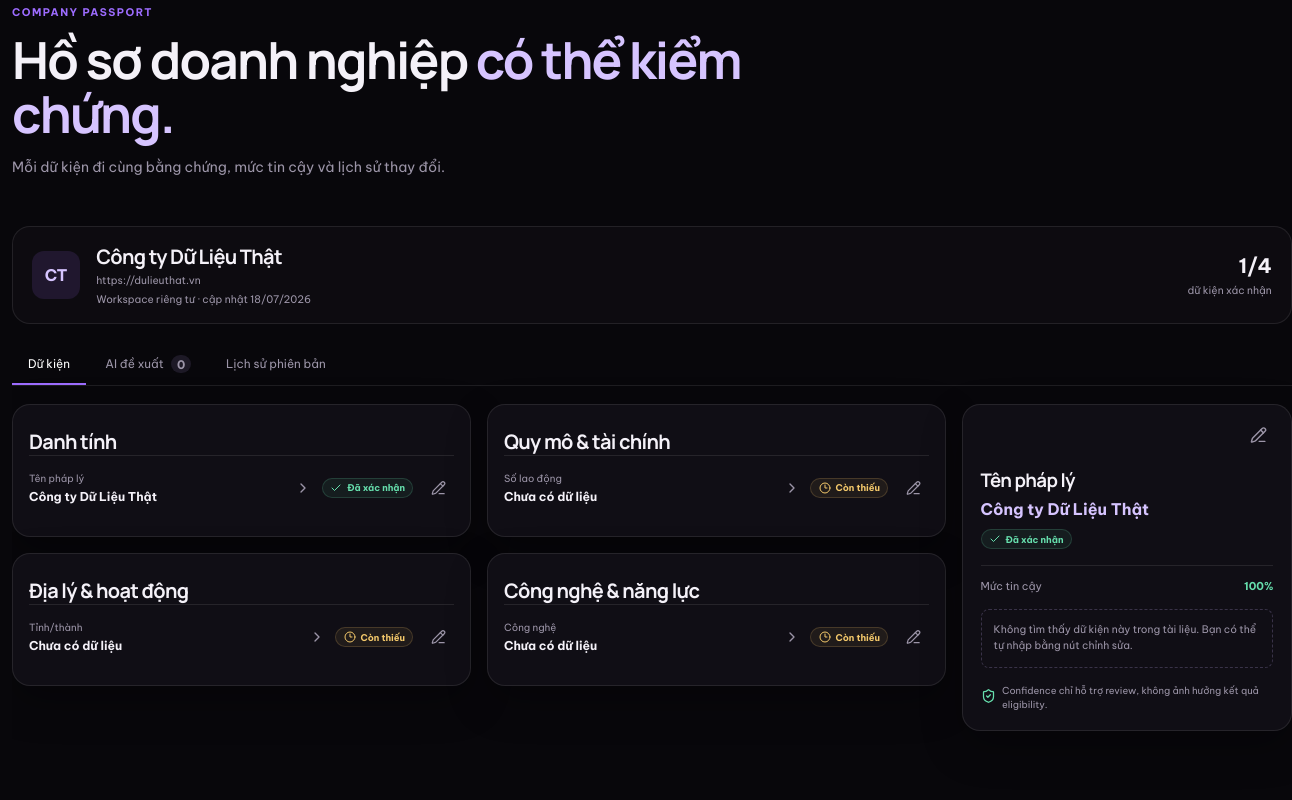
Test: PassportPage › rejects a fractional employee count instead of silently rounding it
Click the button named "Chỉnh sửa Số lao động". click: (913, 488)
box: [897,472,929,504]
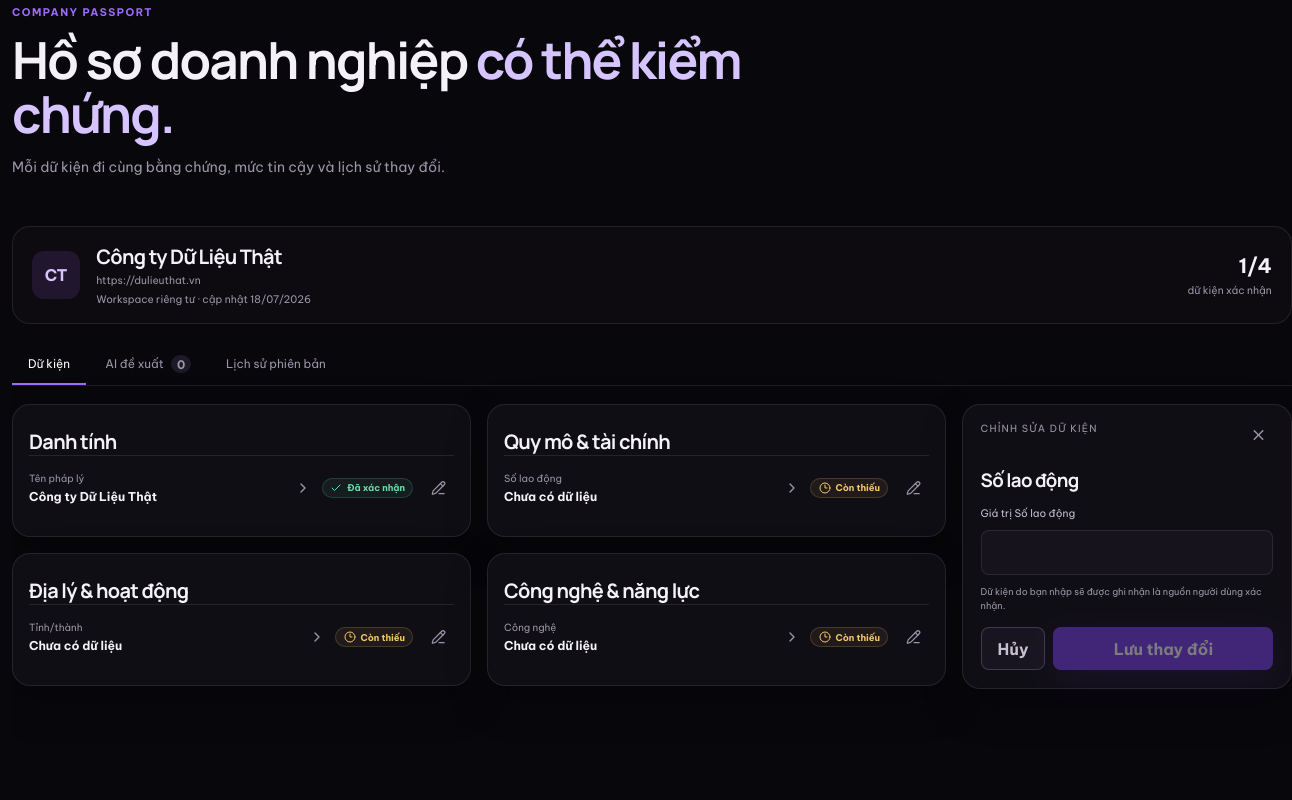
Type "25.5" into the number field labelled "Giá trị Số lao động". click: (1127, 553)
box: [981,530,1273,575]
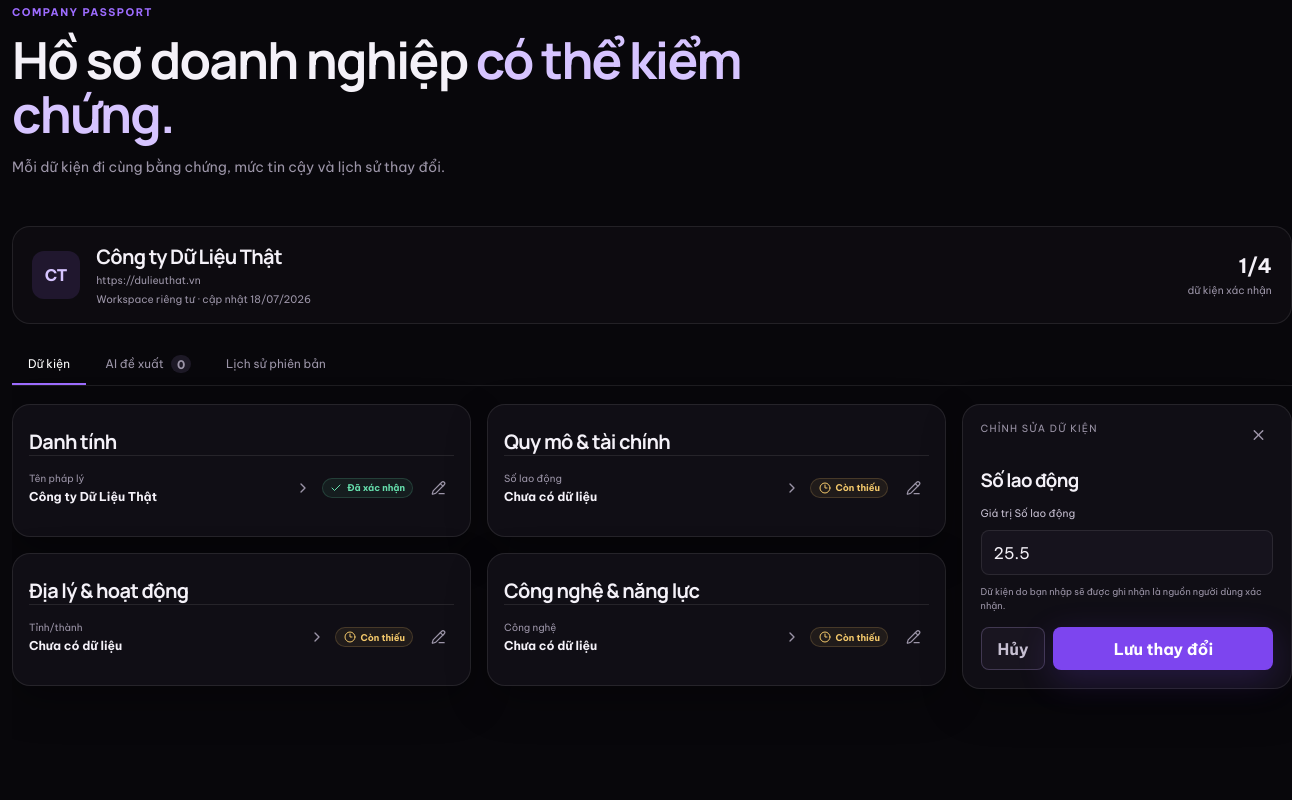
Click the button "Lưu thay đổi". click: (1163, 649)
box: [1054,628,1273,670]
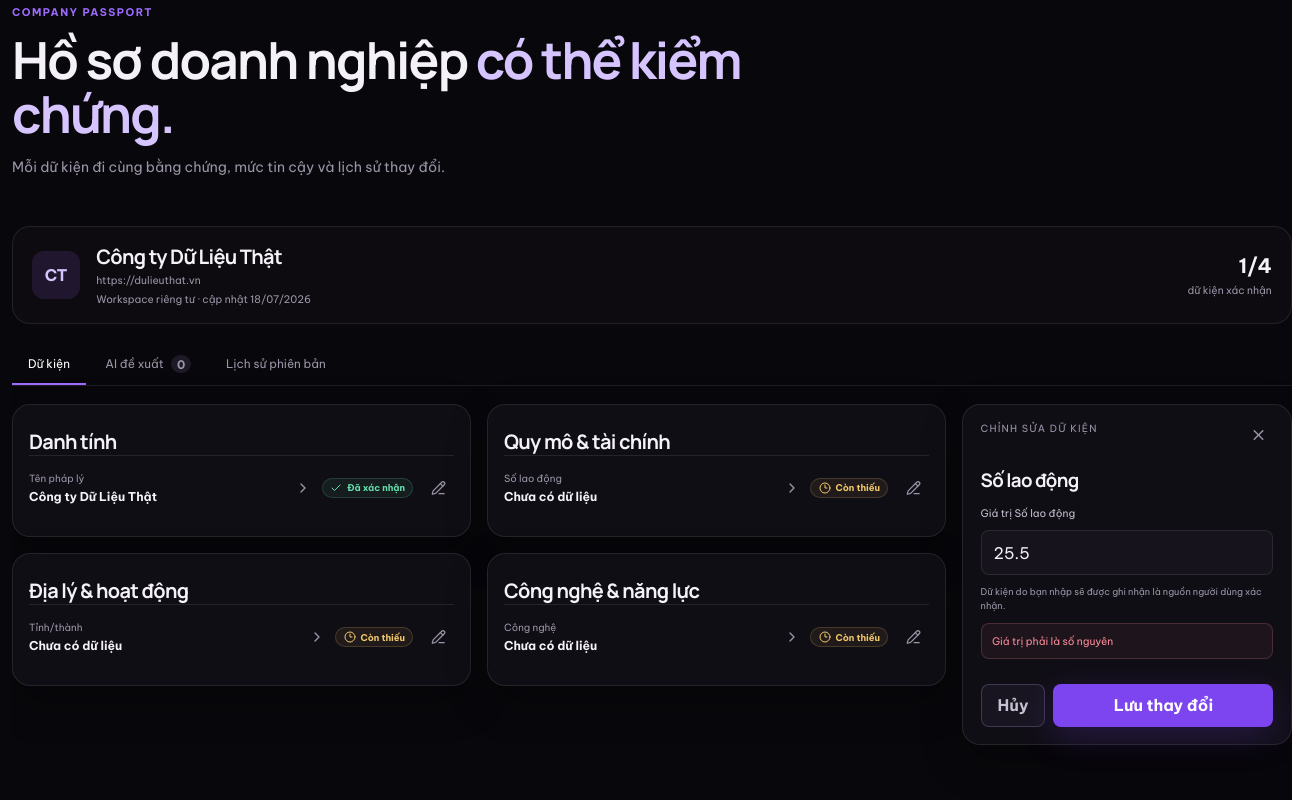
Check: the message reads "Giá trị phải là số nguyên", box [992,635,1113,648]
